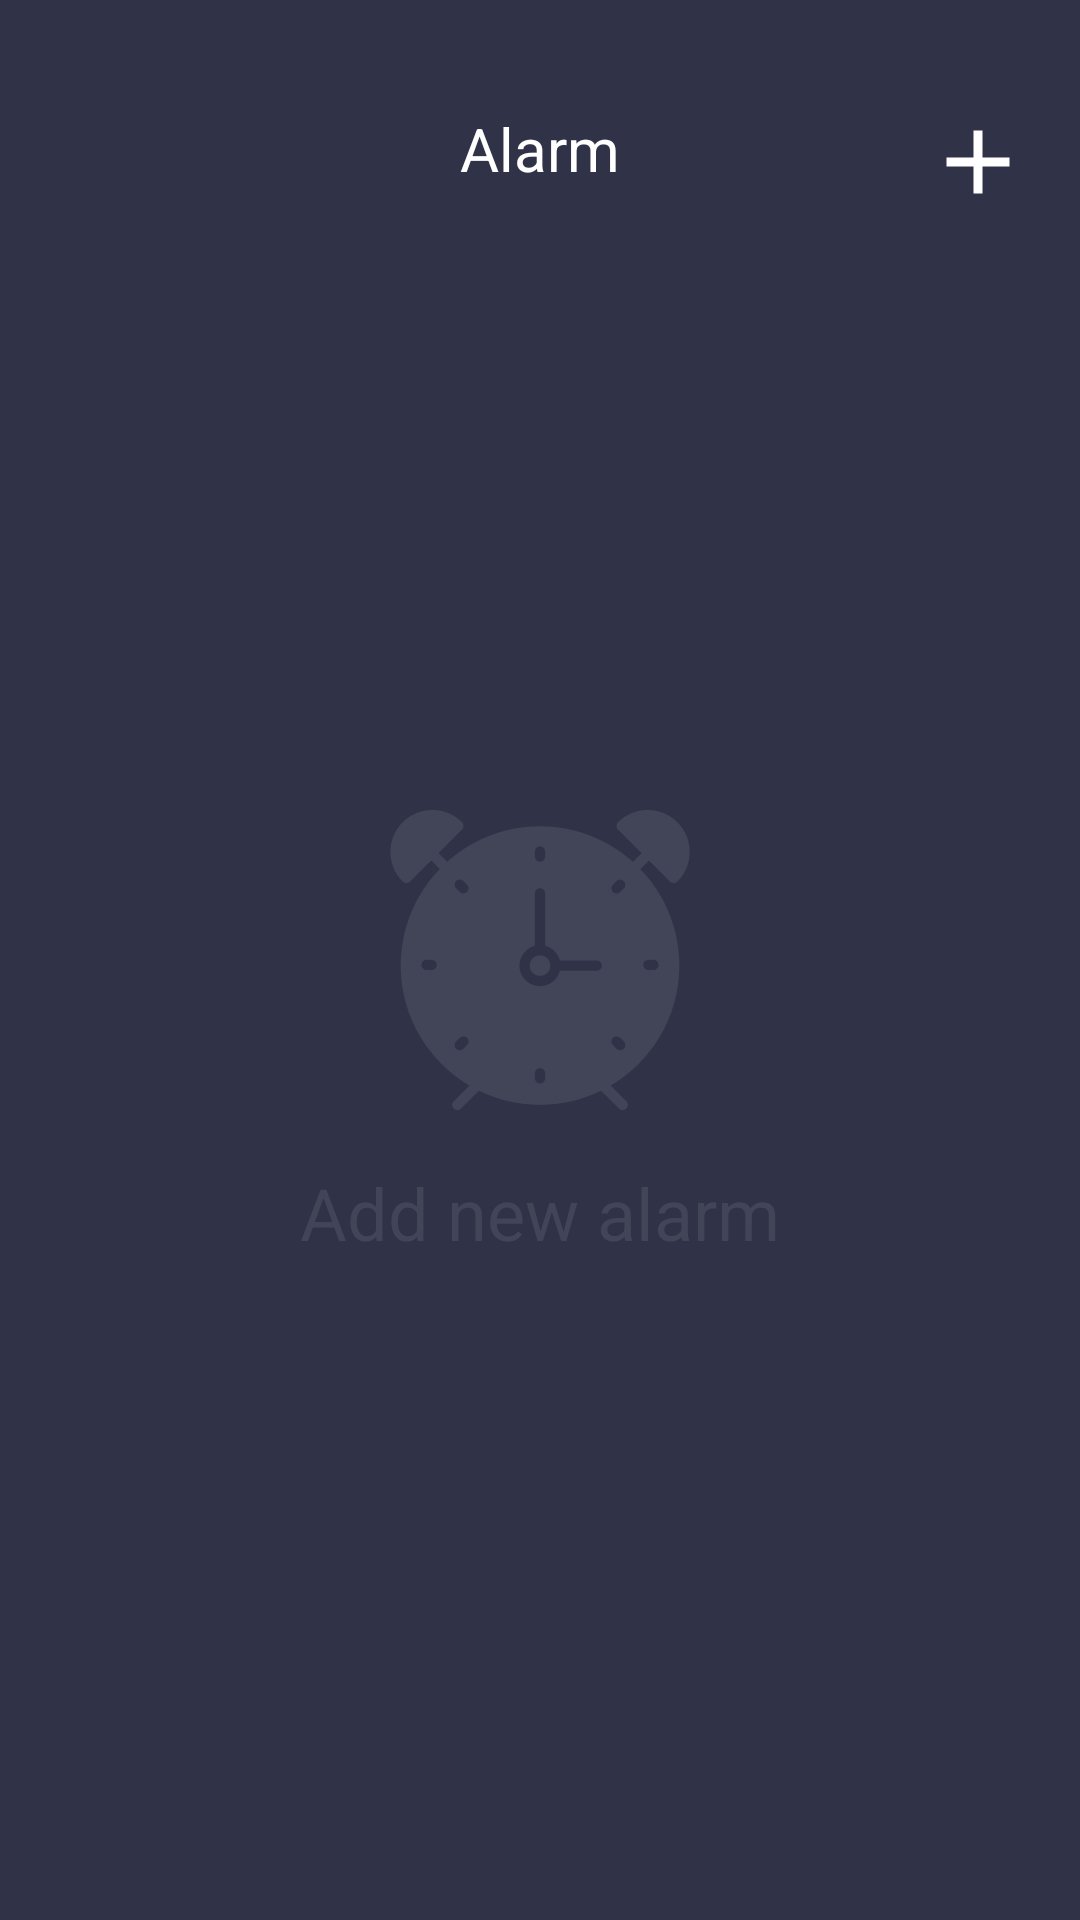

Locate icon controls on the screen. Image size 1080w x 1920h, boxes as BBox(x1, y1, x2, y2).
add: BBox(946, 130, 1010, 194)
